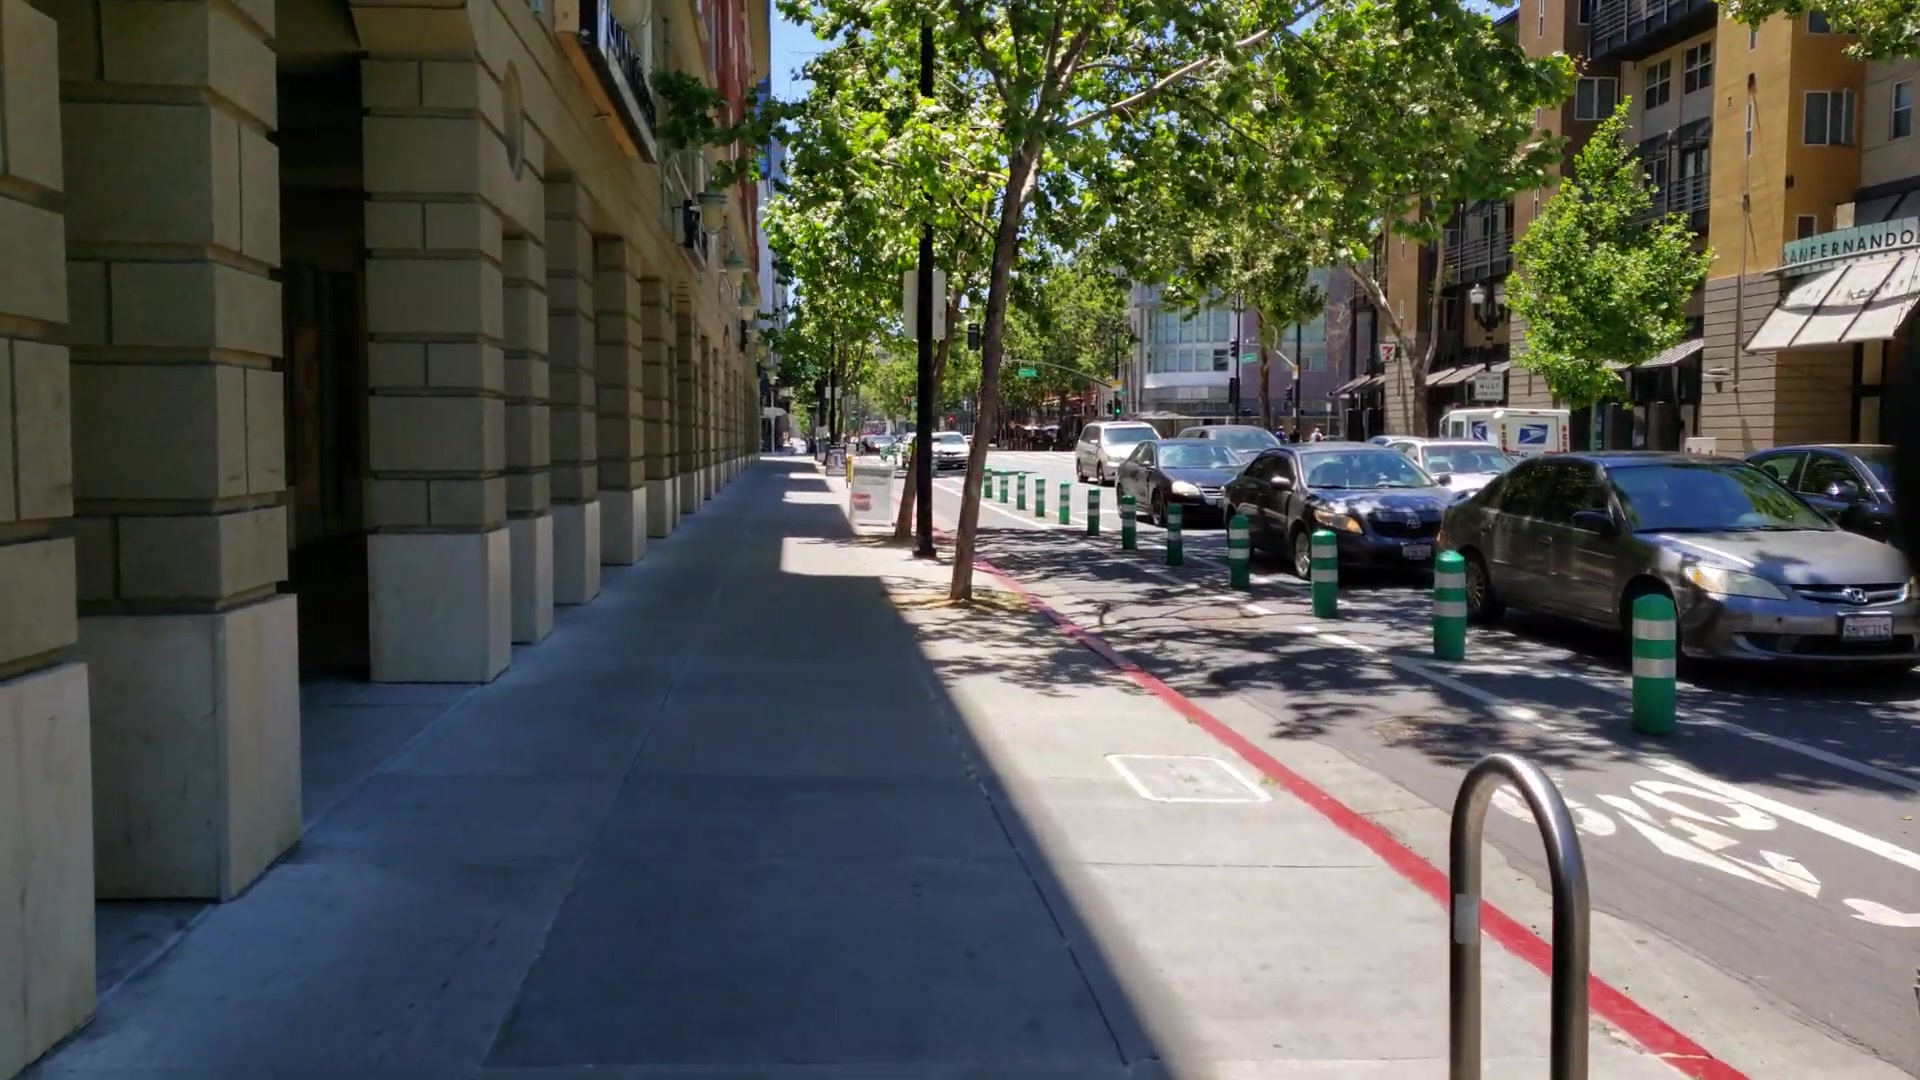vehicle: (1439, 446, 1920, 682), (1224, 446, 1439, 575), (1113, 444, 1222, 529), (1071, 419, 1156, 475)
